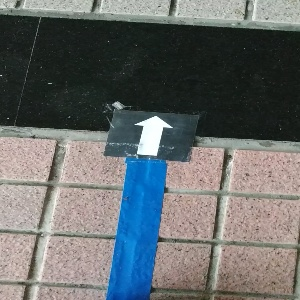straight: (103, 109, 200, 161)
